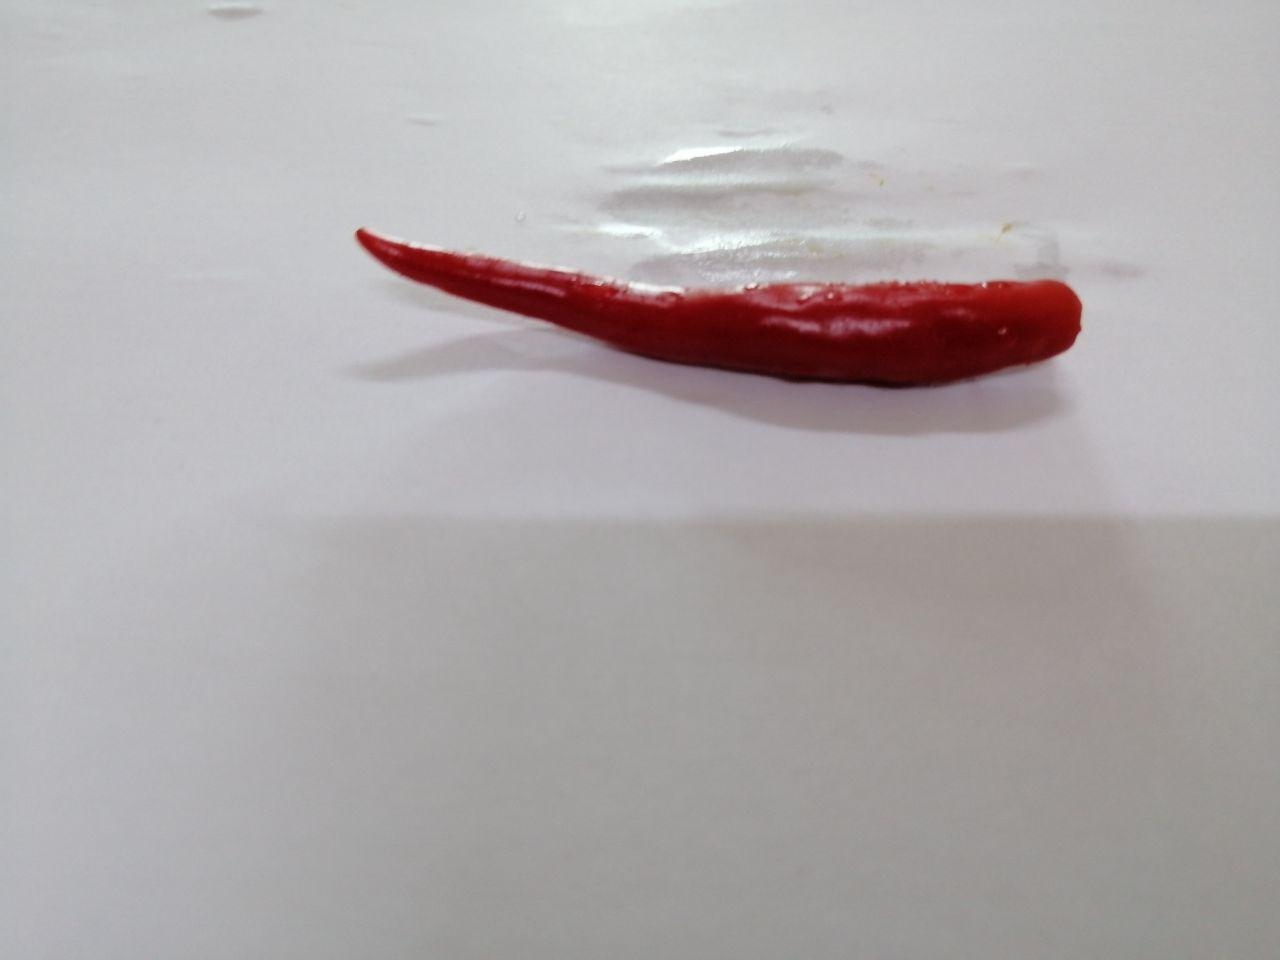lada merah: (335, 202, 1106, 421)
